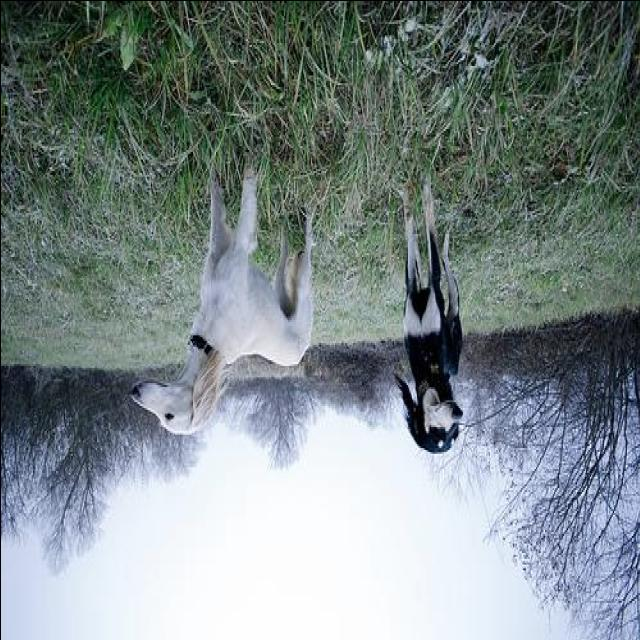saluki: (120, 153, 324, 445), (392, 170, 464, 452)
